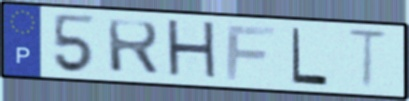5: (51, 11, 98, 75)
F: (223, 24, 278, 82)
H: (163, 17, 221, 84)
L: (289, 26, 330, 88)
R: (105, 18, 162, 78)
T: (344, 26, 392, 93)
